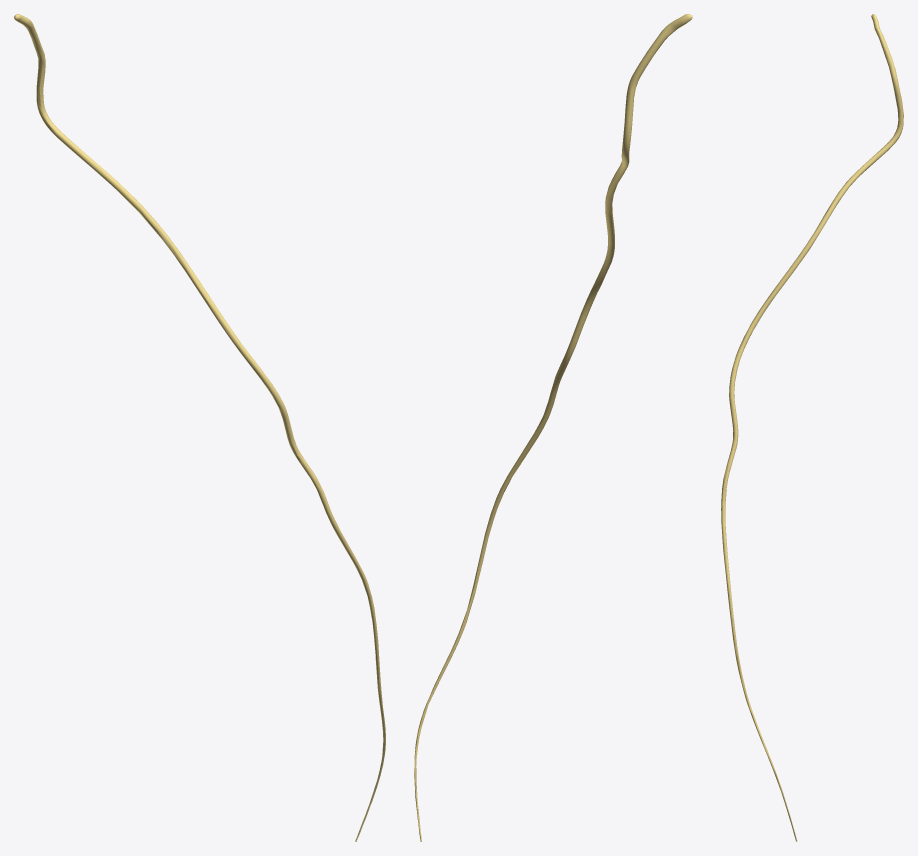
The model's file is fma79667_fj4222.glb.
3 views of the same model, side by side, from view 1: azimuth 30°, elevation 25°; view 2: azimuth 150°, elevation 25°; view 3: azimuth 270°, elevation 25° (orthographic). The views are drawn at different scales.
Parts seen in each view (by area): view 1: FMA79667_FJ4222; view 2: FMA79667_FJ4222; view 3: FMA79667_FJ4222.
Part boxes in pixels (x1,y1,x2,y2): FMA79667_FJ4222: [14, 14, 385, 841]; FMA79667_FJ4222: [414, 14, 692, 841]; FMA79667_FJ4222: [721, 14, 903, 841].
Bounding box in the file's own units: 0.1094 × 0.2909 × 0.0678.
